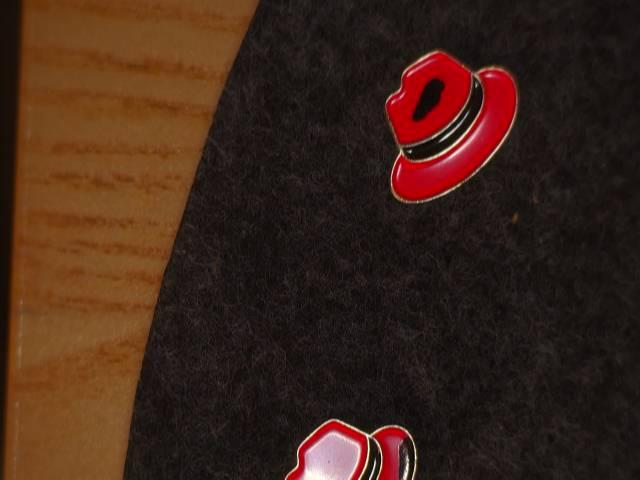Red-Hat: (368, 39, 528, 219), (249, 397, 436, 480)
Scratch: (402, 64, 458, 129), (386, 433, 425, 480)
